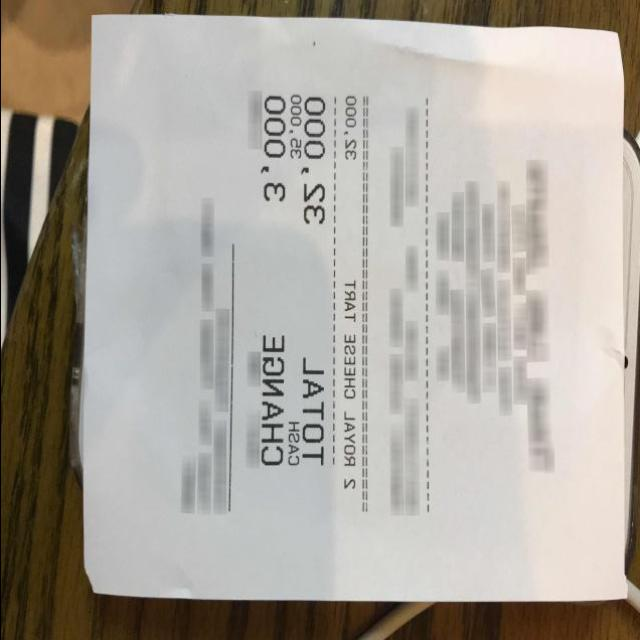kertas: (80, 14, 632, 604)
